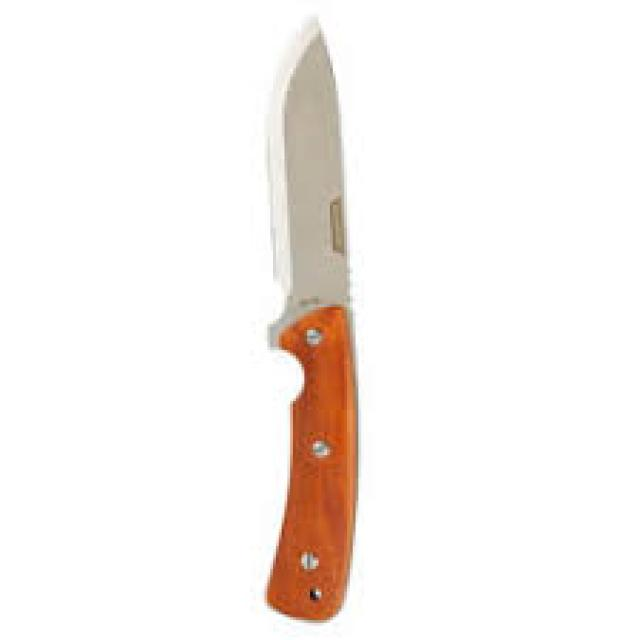knife: (262, 11, 360, 624)
